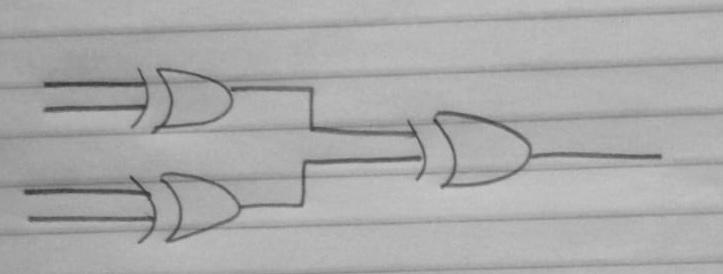XOR: (396, 101, 546, 202), (116, 156, 248, 249), (127, 57, 243, 140)
